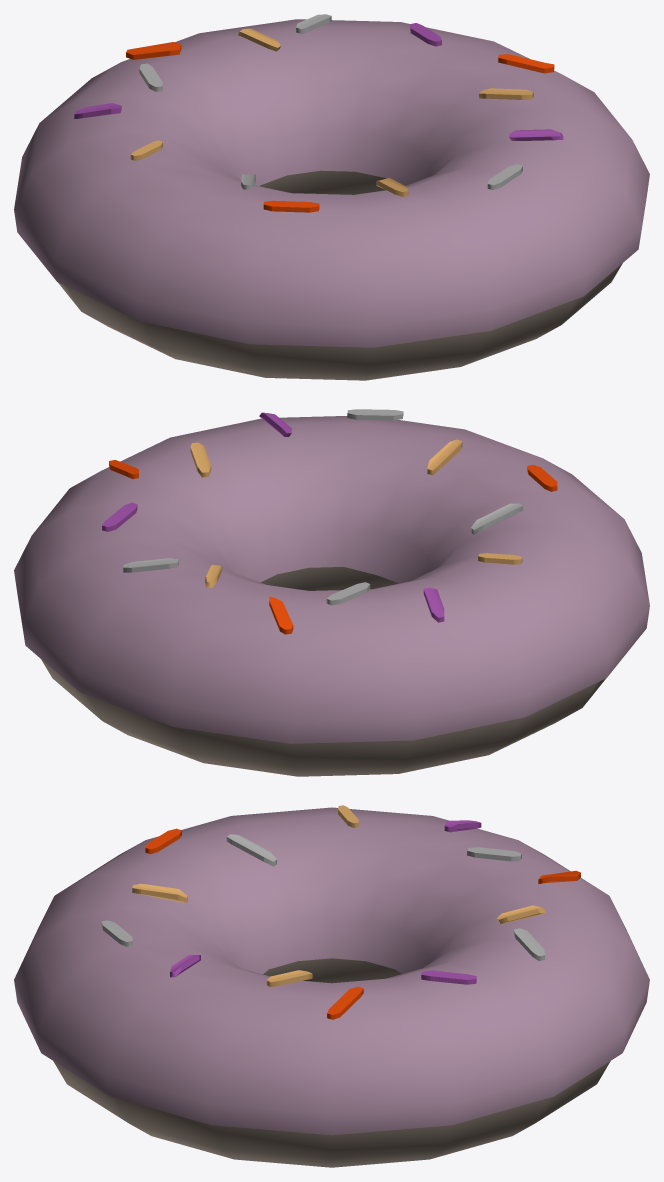
Rendered from donatu.fbx.
The picture shows the model from 3 angles, top to bottom: view 1: azimuth 30°, elevation 25°; view 2: azimuth 150°, elevation 25°; view 3: azimuth 270°, elevation 25°; orthographic projection.
Visible parts, largest first — view 1: polySurface24; view 2: polySurface24; view 3: polySurface24.
Boxes of the visible parts, bbox=[...] form: polySurface24: bbox=[14, 14, 649, 380]; polySurface24: bbox=[14, 409, 649, 776]; polySurface24: bbox=[14, 805, 649, 1167].
Size of the model in its own units: 4.51 by 1.35 by 4.51.
